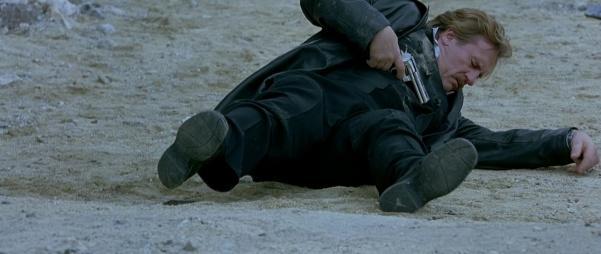Gun: (396, 48, 432, 106)
